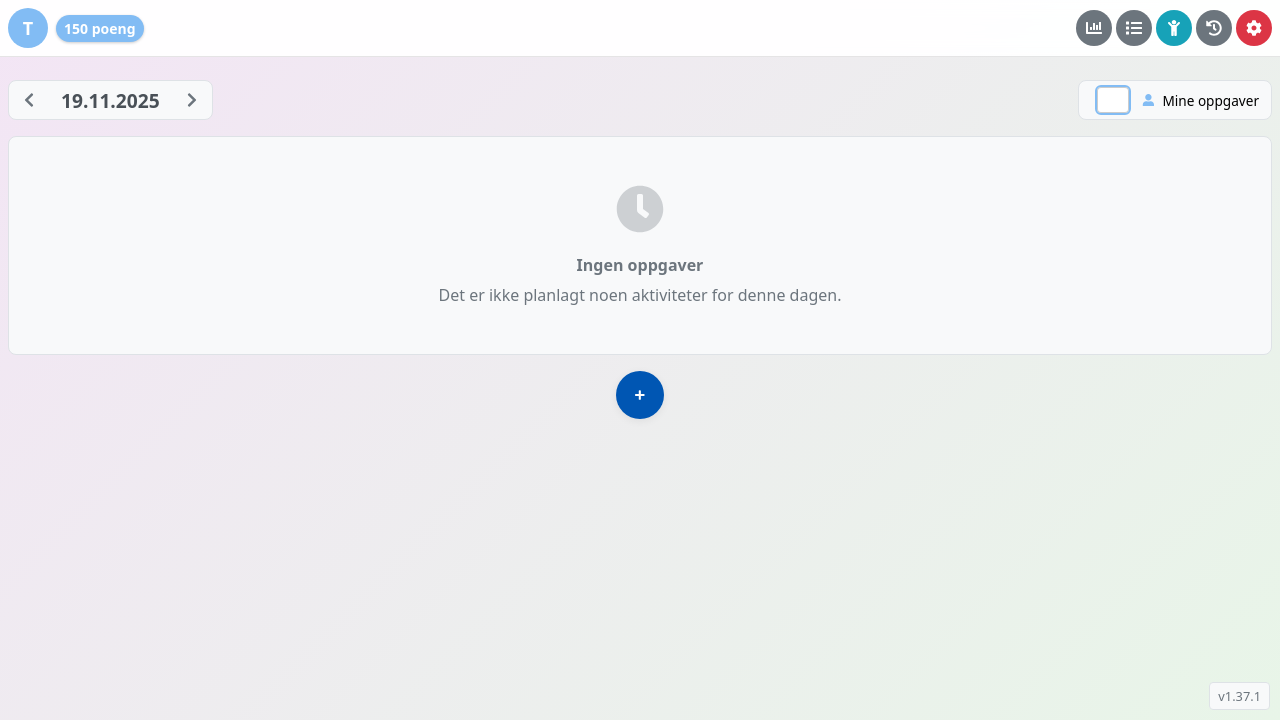
Test case: App Component - Avatar Click Functionality › should open ProfileSelector modal when avatar is clicked
// Find and click the avatar
Click the button titled "Åpne profil og innstillinger": x=28, y=28 [8, 8, 48, 48]
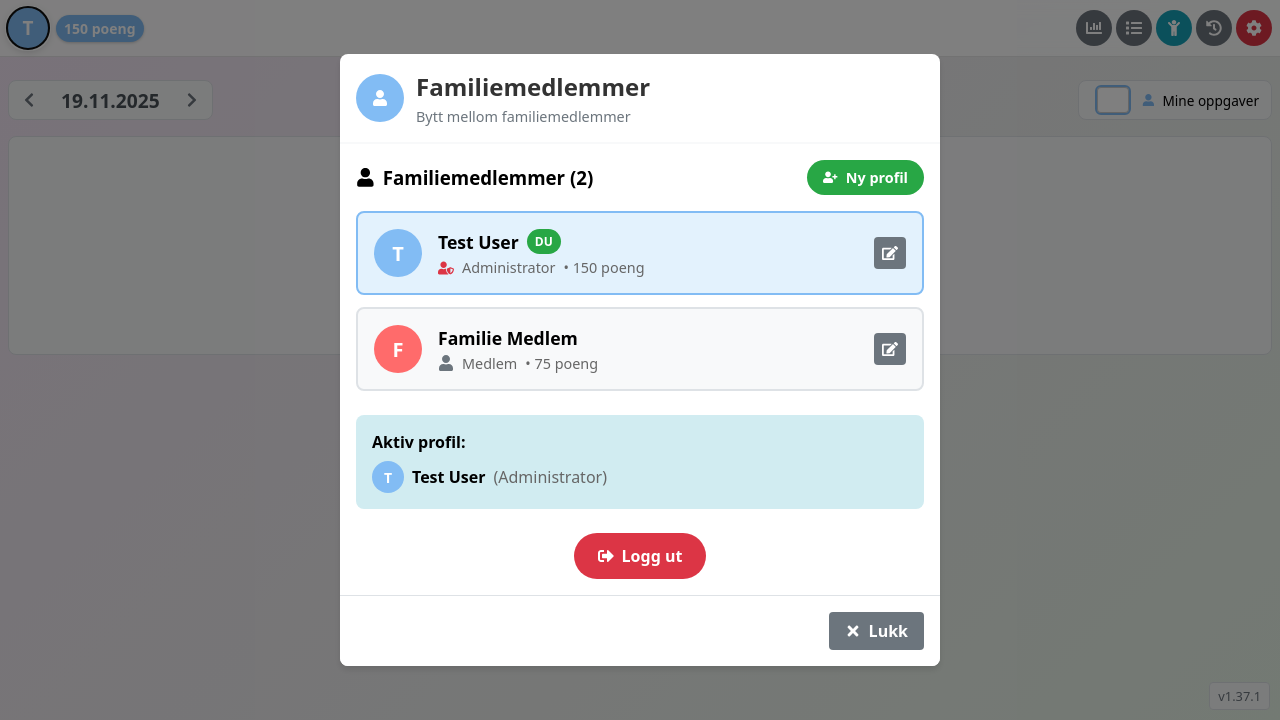
Now the heading "Familiemedlemmer (2)" is shown, box [356, 165, 593, 190]
Now the text "Test User" next to "DU" is shown, box [438, 230, 519, 254]
Now the text "Familie Medlem" is shown, box [438, 326, 578, 350]
